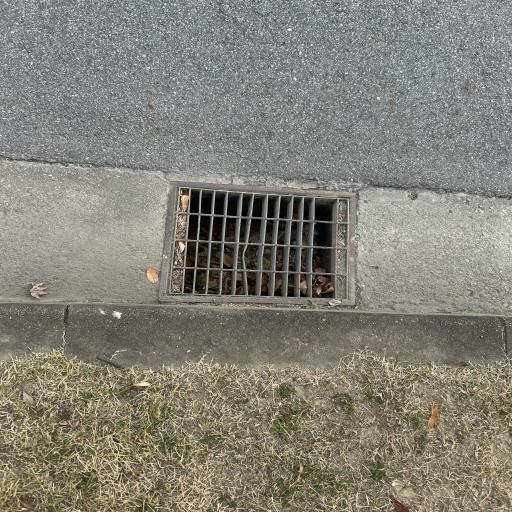drain: (169, 185, 352, 302)
